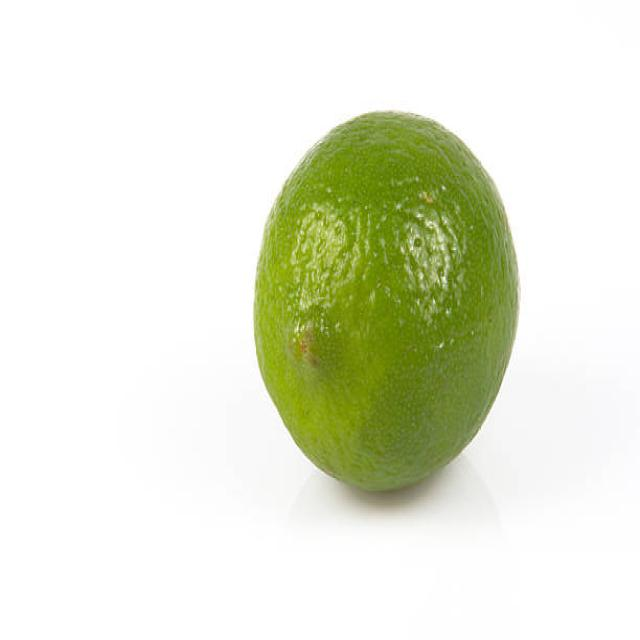Unripe: (253, 109, 521, 490)
